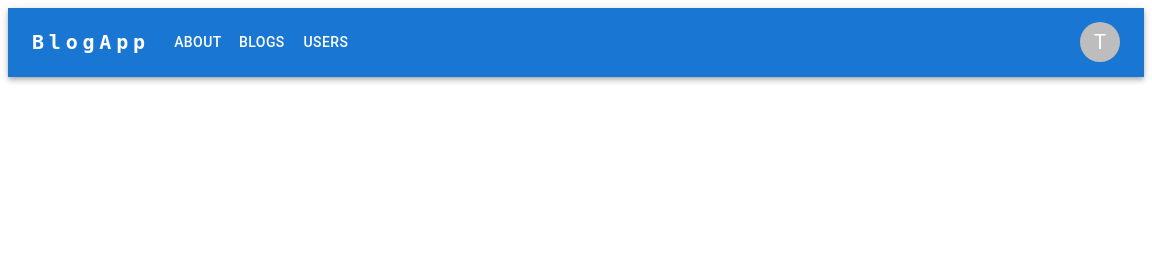
Test: <NavBar> › Display logout button when user's logo is clicked
The image size is (1152, 258).
Click the button named "Open settings" at (1100, 42), box left=1080, top=22, right=1120, bottom=62
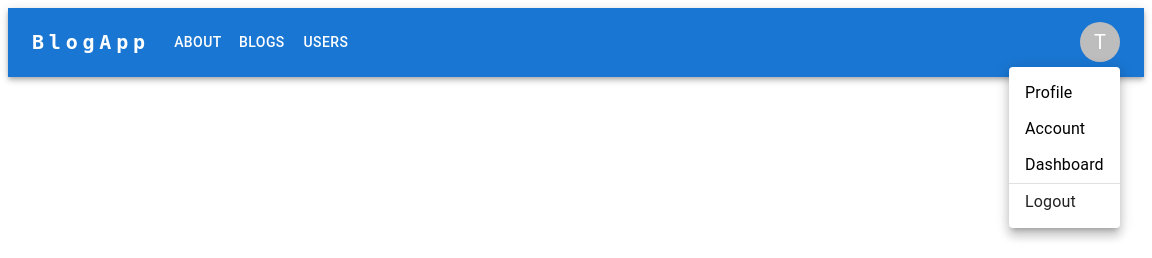
Now the menu item "Logout" is shown, box left=1025, top=192, right=1076, bottom=211
